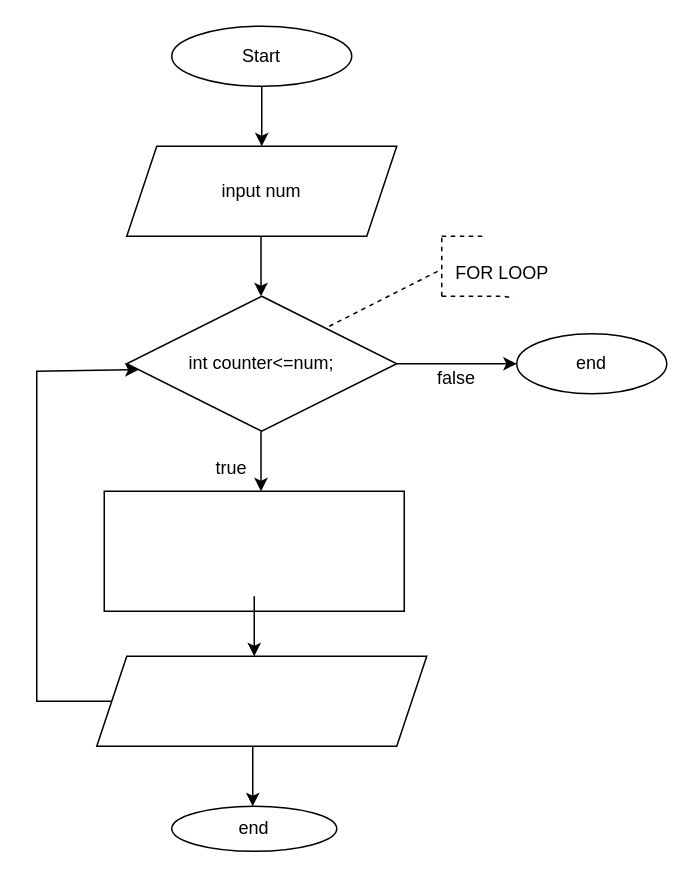
This 693x878 diagram has some shape labels left out. Here are the shapes that lost their labels. From the top down, the centre of each, then its label:
At point (253, 550): "int sum =+ num*num; counter ++;".
At point (261, 700): "print sum;".
